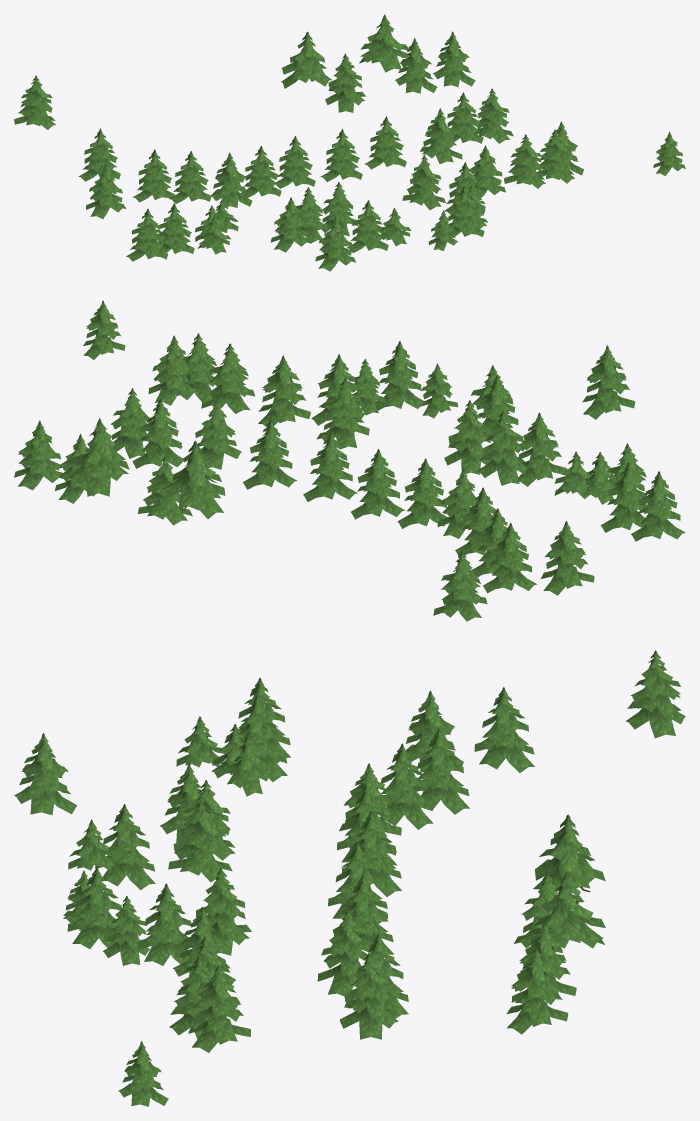
File: songshugan_02.FBX
3 views of the same model, one above another, from view 1: azimuth 30°, elevation 25°; view 2: azimuth 150°, elevation 25°; view 3: azimuth 270°, elevation 25° (orthographic). The views are drawn at different scales.
Parts seen in each view (by area): view 1: Object002; view 2: Object002; view 3: Object002.
Boxes of the visible parts, box(x1,y1,x2,y2) form: Object002: box(14, 14, 685, 271); Object002: box(14, 300, 685, 621); Object002: box(14, 650, 685, 1106).
Bounding box in the file's own units: 5815 × 957 × 4457.
